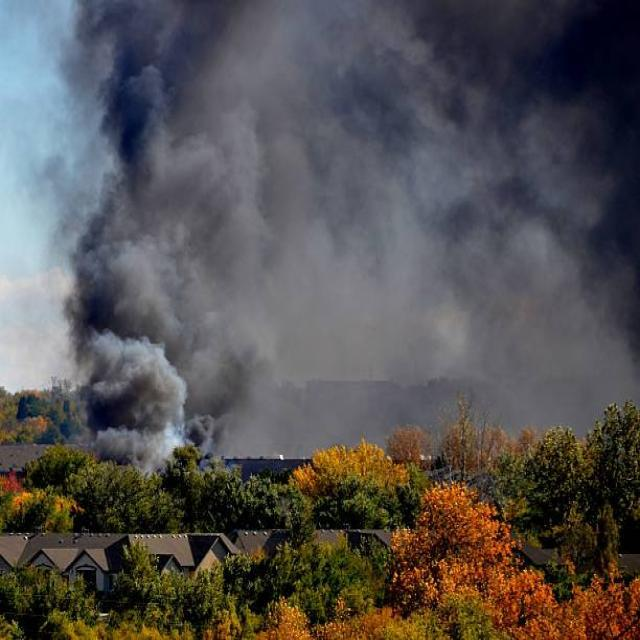Smoke: (86, 0, 637, 438)
